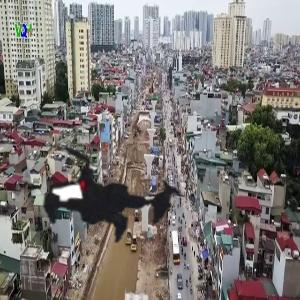drone: (6, 84, 217, 295)
